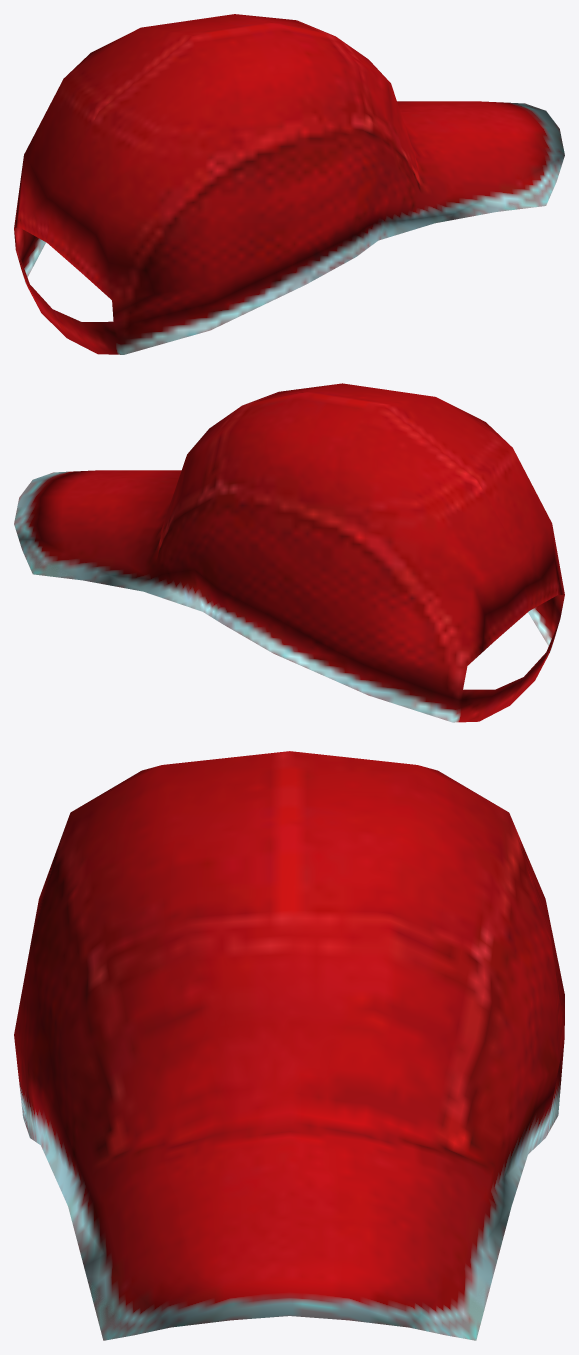
File: hat_0400019.FBX
3 views of the same model, one above another, from view 1: azimuth 30°, elevation 25°; view 2: azimuth 150°, elevation 25°; view 3: azimuth 270°, elevation 25° (orthographic). The views are drawn at different scales.
Visible parts, largest first — view 1: hat_0400019; view 2: hat_0400019; view 3: hat_0400019.
Boxes of the visible parts, x1,y1,x2,y2 form: hat_0400019: (14, 14, 564, 354); hat_0400019: (14, 383, 564, 722); hat_0400019: (14, 751, 564, 1340).
Bounding box in the file's own units: 40.47 × 20.99 × 22.8.
